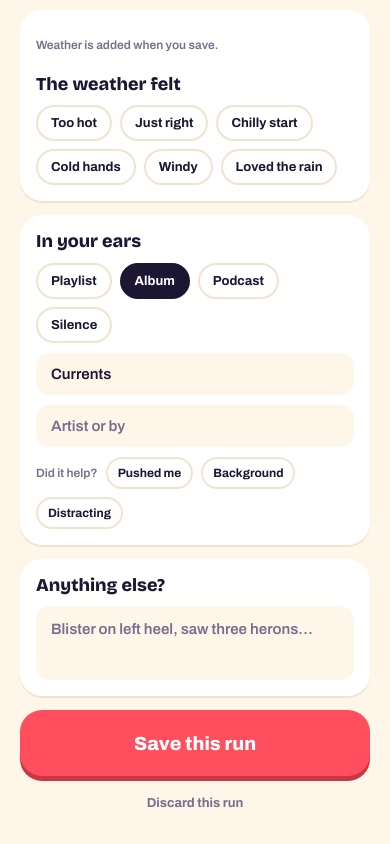
Test: shows the server error and stays on the form when saving fails
(page scrolled)
What coordinates should you click on to do the following:
click the button "Save this run"
I would click on:
 (195, 744)
Its box is x1=20 y1=710 x2=370 y2=776.
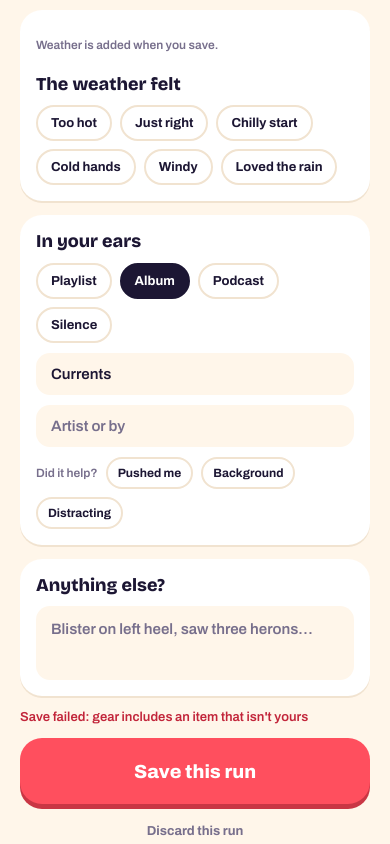
Expected: the button "Save this run" is enabled, x1=20 y1=738 x2=370 y2=804
Expected: the message reads "Save failed: gear includes an item that isn't yours", x1=20 y1=710 x2=308 y2=724
